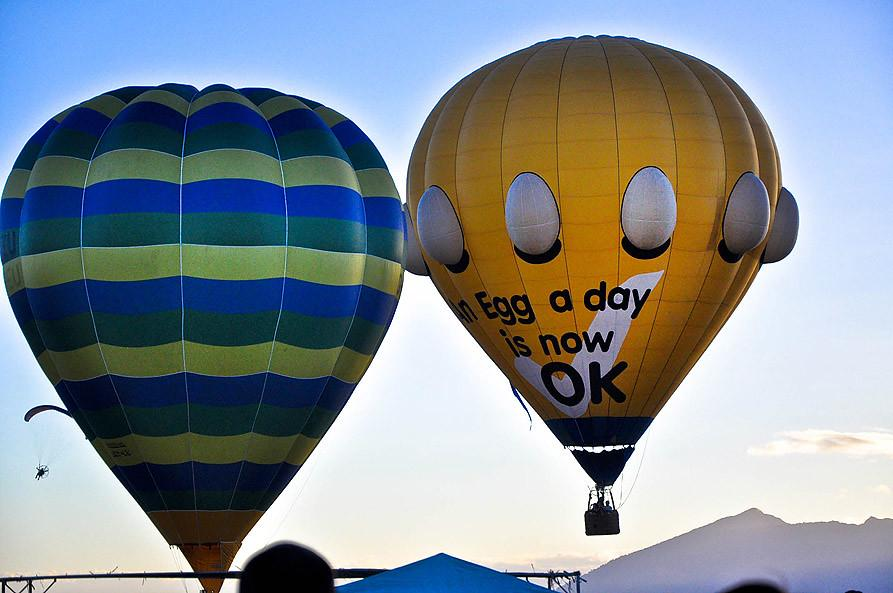balloon: (2, 81, 408, 591), (405, 33, 800, 536)
